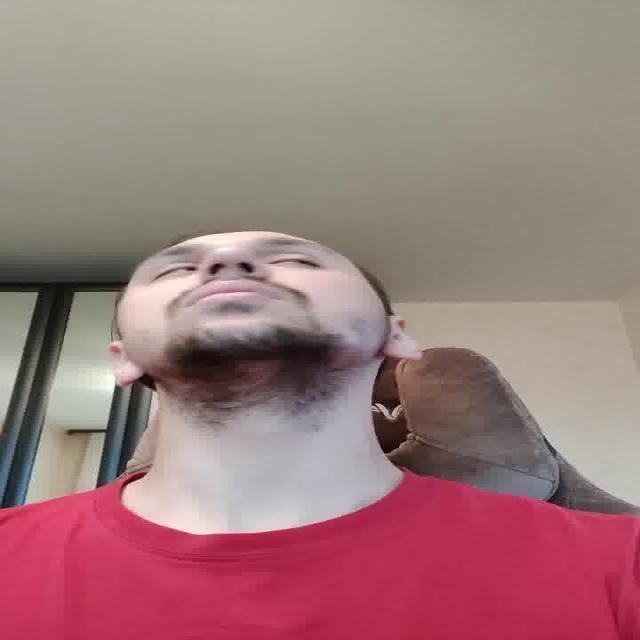earlobe: (107, 342, 147, 387), (384, 316, 422, 360)
